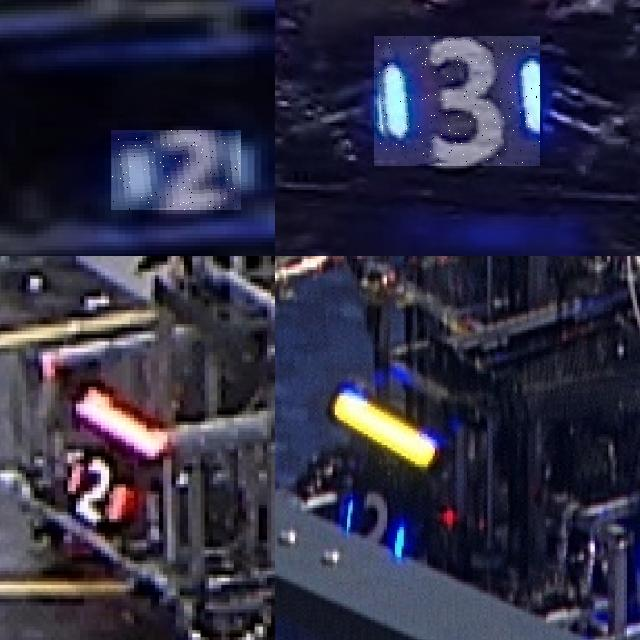B2: (111, 130, 241, 210), (336, 483, 409, 560)
B3: (374, 36, 540, 166)
R2: (64, 456, 134, 526)
